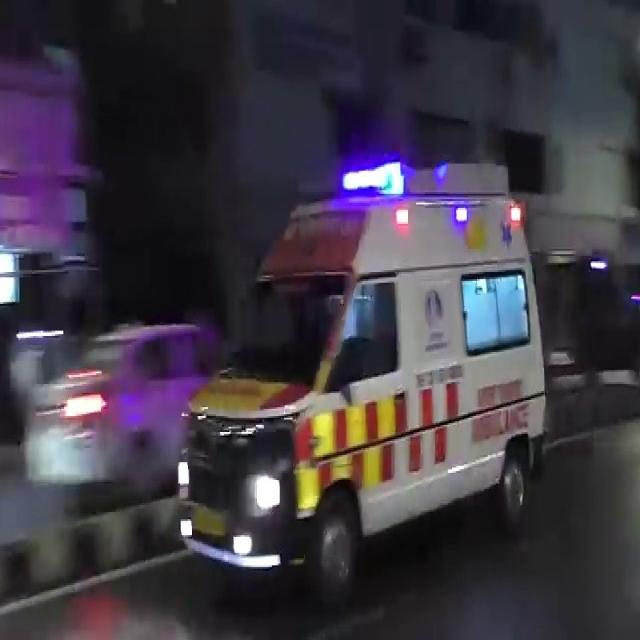ambulance: (185, 177, 575, 566)
